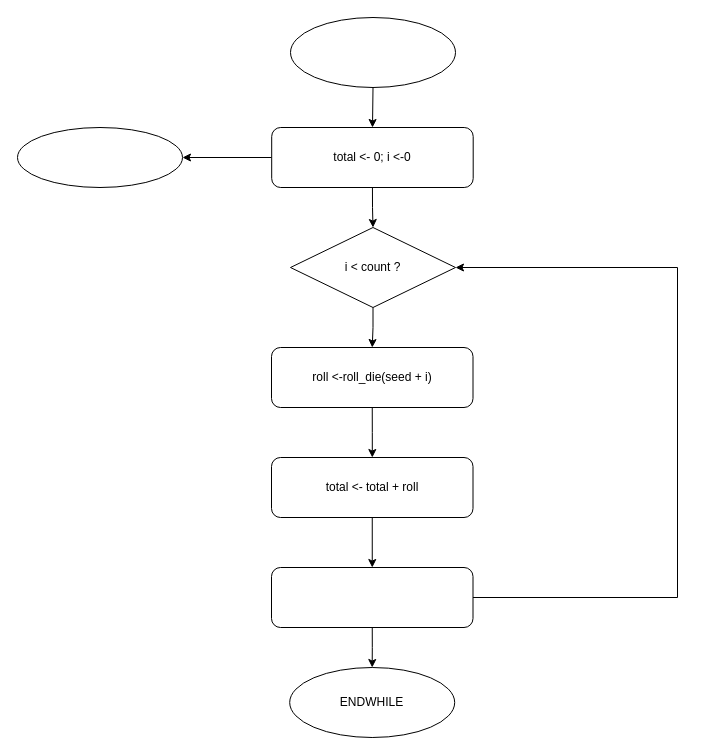
This 703x755 diagram has some shape labels left out. The shapes that lost their labels are listed below. From the top down, each one's centre as x and y in pixels, then its label:
the point at 373,52: FUNCTION roll_dice
the point at 99,157: RETURN total
the point at 371,597: i <-i + 1
